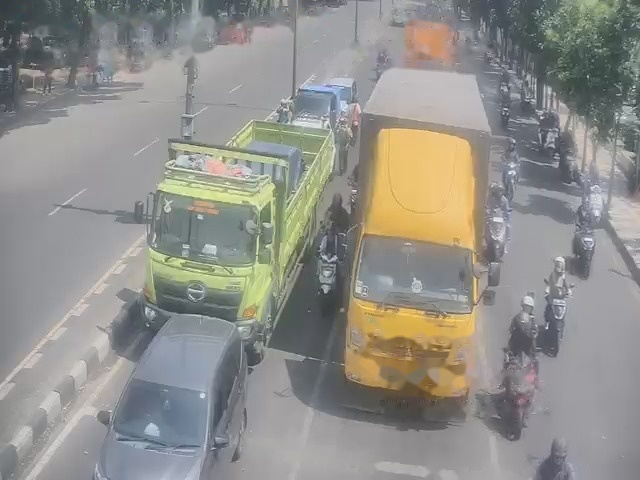Mobil: (103, 305, 236, 480), (291, 85, 340, 128), (502, 150, 519, 201)
Motor: (496, 348, 535, 439), (546, 289, 570, 355), (319, 249, 337, 313), (574, 229, 595, 278), (486, 208, 505, 261), (588, 189, 607, 227), (558, 150, 579, 182), (539, 128, 558, 157), (349, 168, 356, 221), (489, 260, 502, 287)
Truk: (141, 120, 336, 362), (356, 73, 485, 420)
